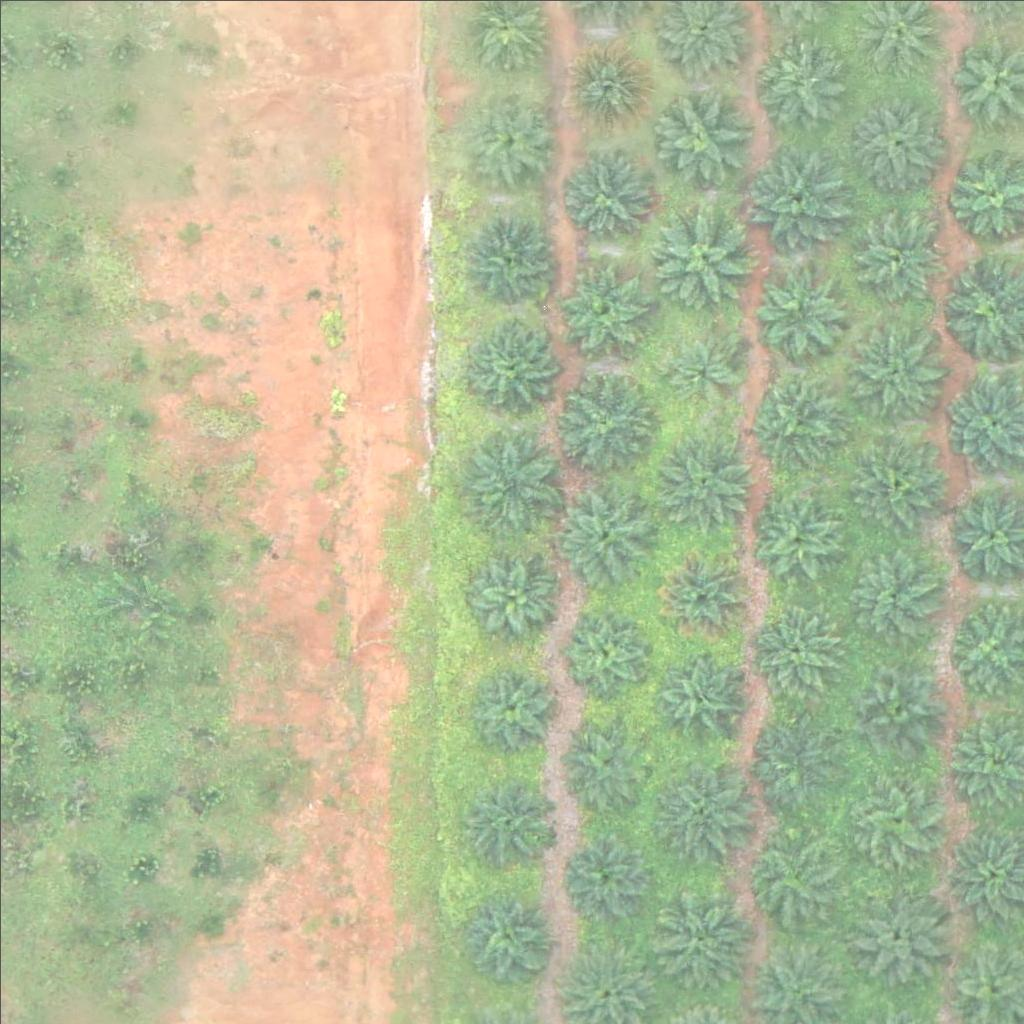Kelapa_Sawit: (651, 888, 751, 989), (650, 755, 750, 856), (456, 884, 556, 985), (646, 204, 746, 305), (746, 484, 846, 585), (745, 368, 845, 469), (747, 144, 847, 245), (840, 548, 940, 649), (843, 431, 943, 532), (844, 322, 944, 423), (845, 205, 945, 306), (847, 89, 947, 190), (648, 83, 748, 184), (847, 891, 947, 991), (738, 830, 838, 930), (739, 710, 839, 810), (461, 435, 561, 535), (556, 483, 656, 583), (554, 369, 654, 469), (651, 431, 751, 531), (852, 780, 940, 868), (849, 661, 937, 749), (562, 832, 650, 920), (460, 776, 548, 864), (464, 662, 552, 750), (463, 552, 551, 640), (556, 265, 644, 353), (562, 155, 650, 243), (749, 605, 837, 693), (562, 44, 650, 132), (559, 720, 646, 808), (654, 648, 741, 736), (464, 315, 551, 403), (463, 218, 550, 306), (464, 92, 551, 180), (562, 609, 649, 697), (658, 551, 745, 639), (755, 269, 842, 357), (748, 41, 835, 129), (664, 327, 739, 403)
